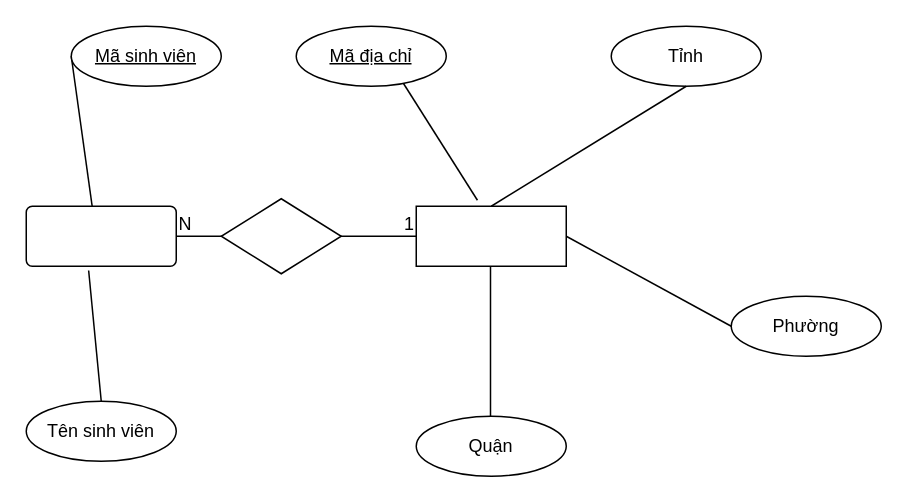
Image size: 908x503. Some labels were removed from this diagram. Here are the shapes that lost their labels. From the top down, the centre of each, then its label:
point 100,235: STUDENTS
point 280,235: Ở lại
point 490,235: Address
